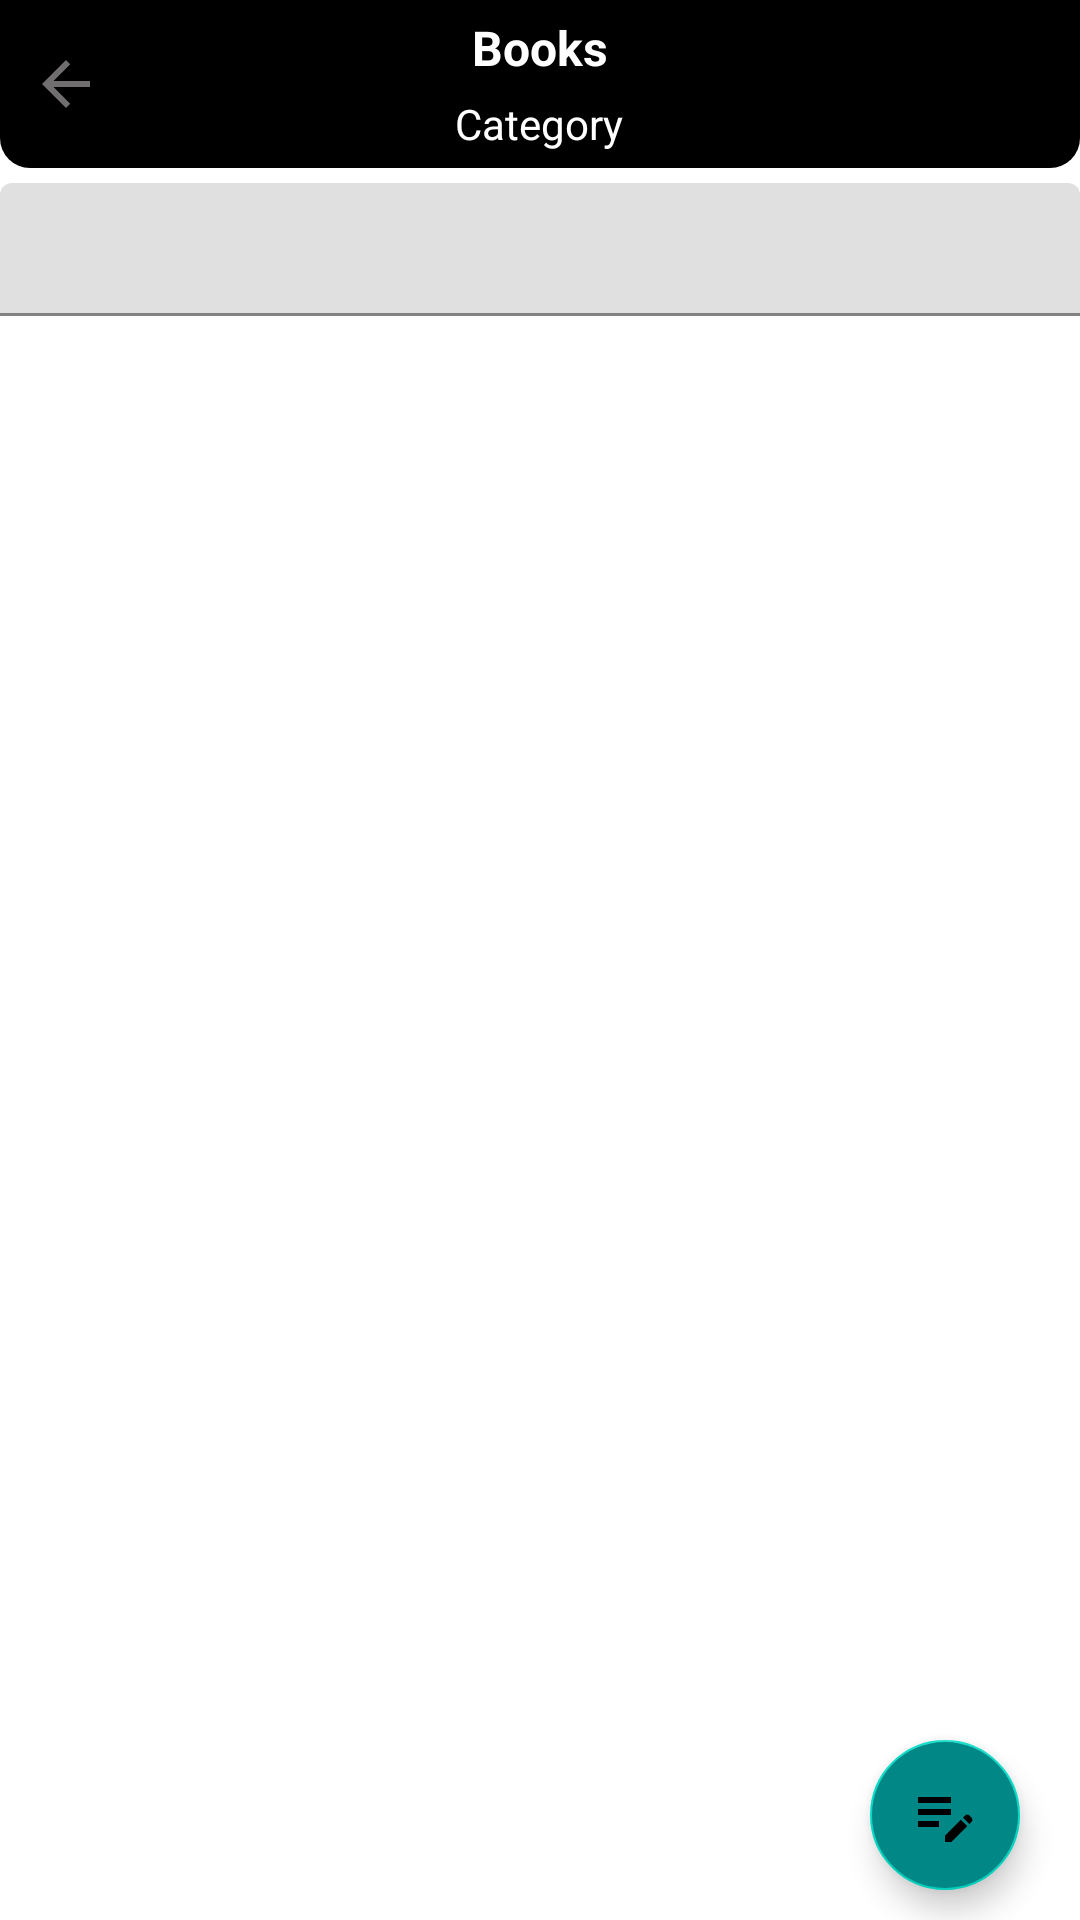

Point at icon controls on the screen. Image size 1080 x 1920, points as (x=x, y=y).
back: (x=66, y=84)
